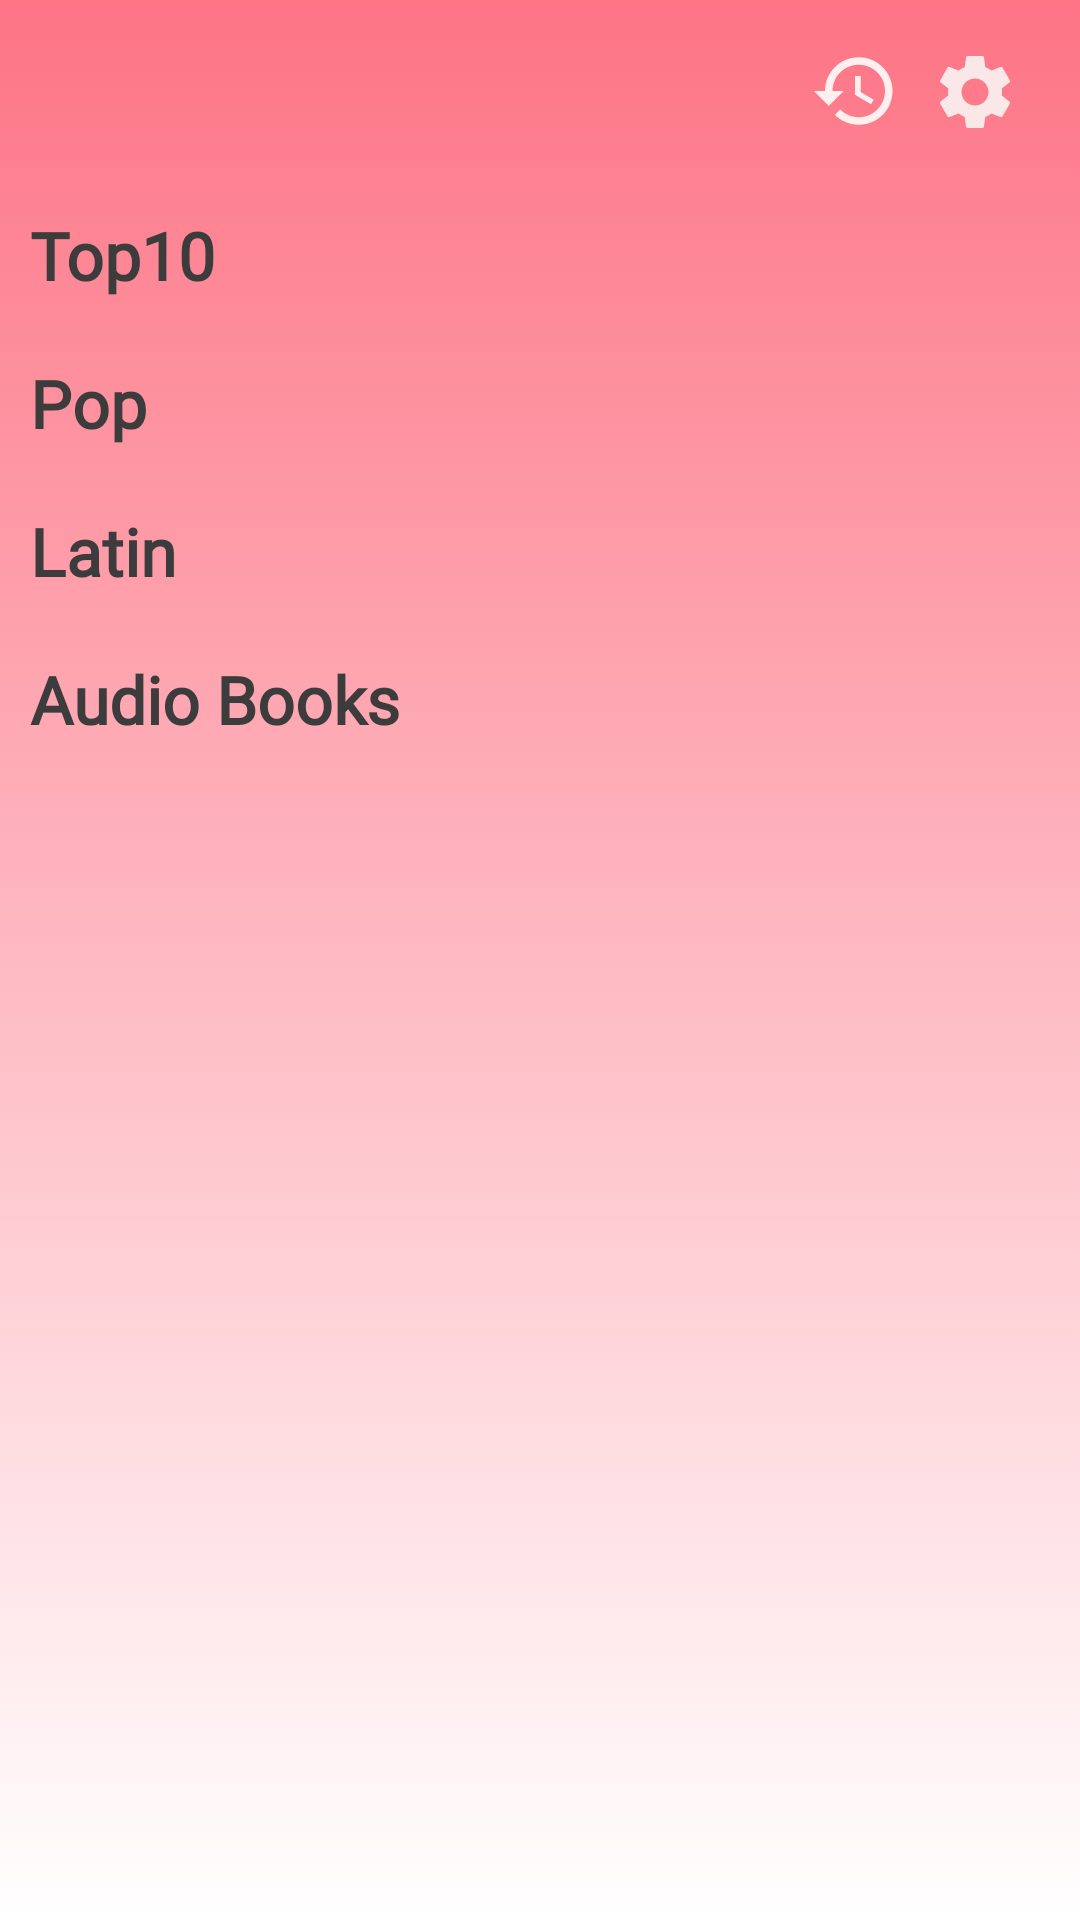

Locate icon controls on the screen. Image size 1080px×1920px, boxes as (x1, y1, x2, y2).
history: (814, 57, 893, 125)
settings: (940, 56, 1010, 128)
